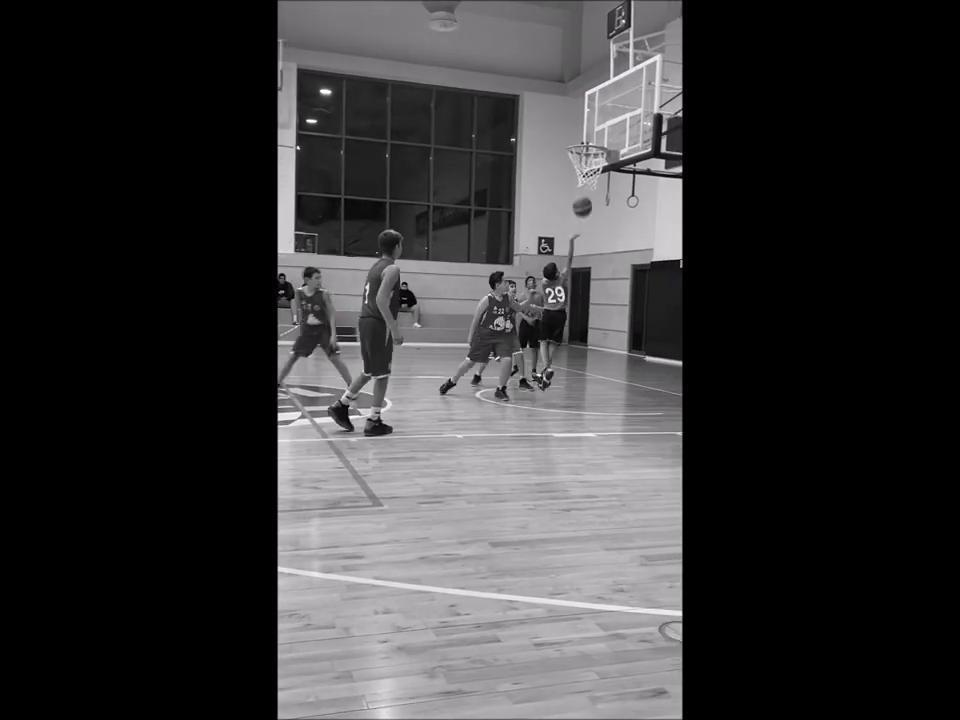ball: (572, 194, 594, 218)
human: (324, 226, 404, 439), (436, 270, 537, 402), (276, 265, 356, 395), (537, 231, 582, 392), (518, 274, 542, 383)
rim: (566, 142, 609, 189)
